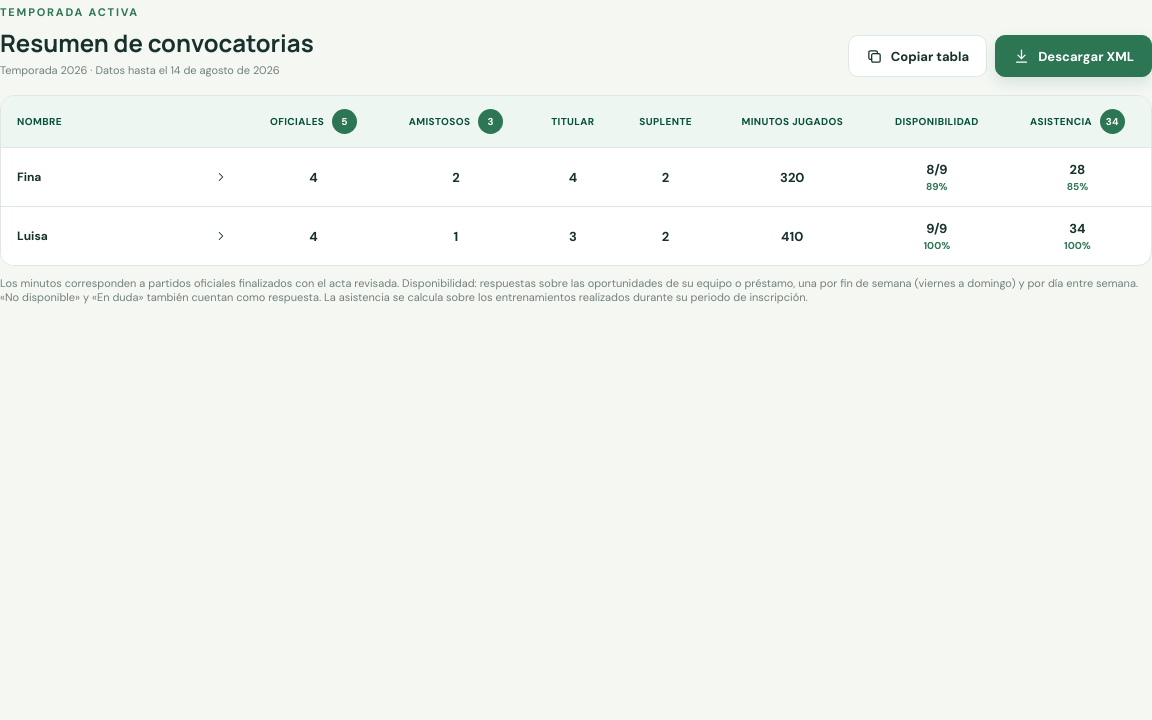
Test: SeasonCallupReportView › opens the complete summary for a player from her row
Click the button "Fina" at (123, 177), box top-left (17, 169), bottom-right (228, 185)
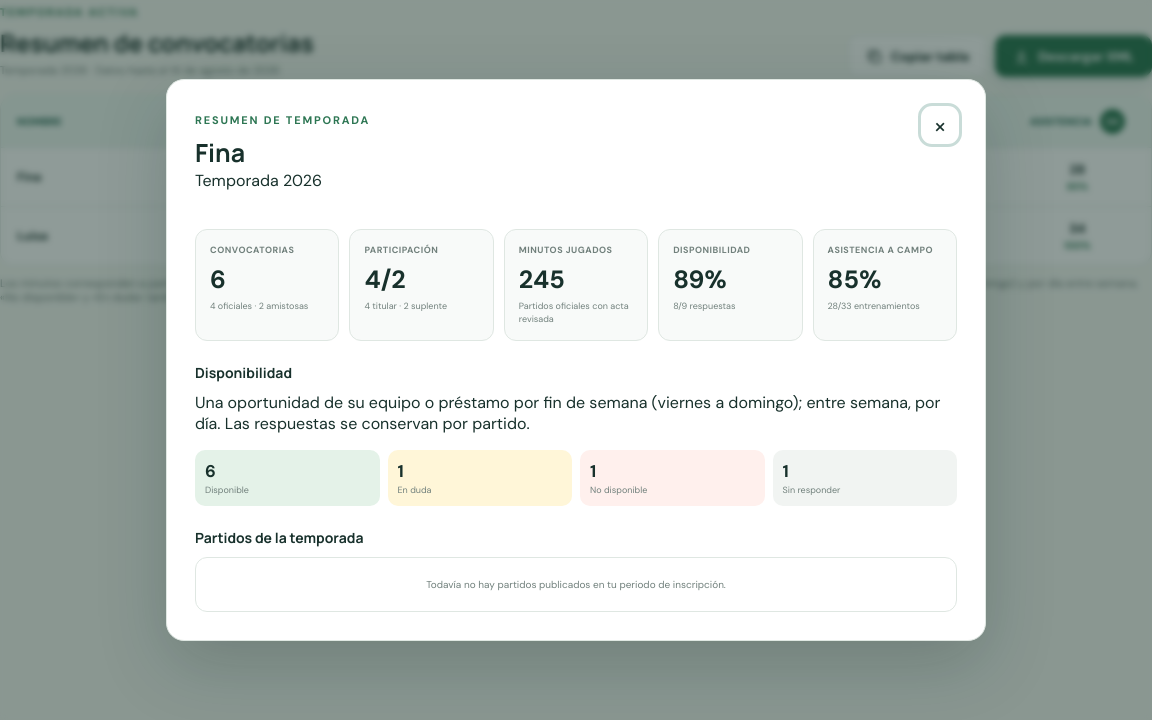
Now the dialog "Fina" shows "8/9 respuestas", box top-left (673, 300), bottom-right (736, 312)
Now the dialog "Fina" shows "28/33 entrenamientos", box top-left (828, 300), bottom-right (920, 312)
